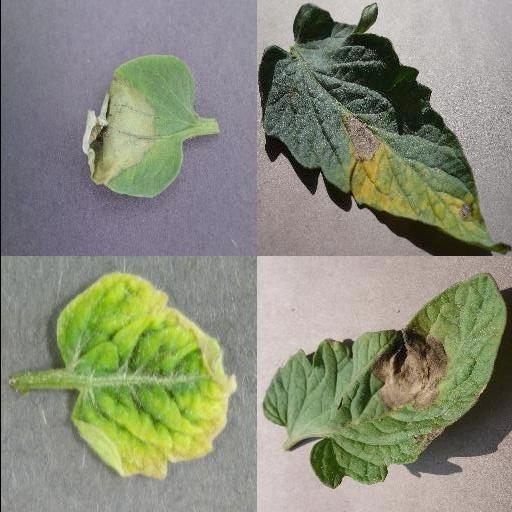Early Blight: (262, 1, 508, 256)
Late Blight: (260, 273, 506, 489), (81, 55, 197, 199)
Yellow Leaf Curl Virus: (53, 273, 237, 481)
